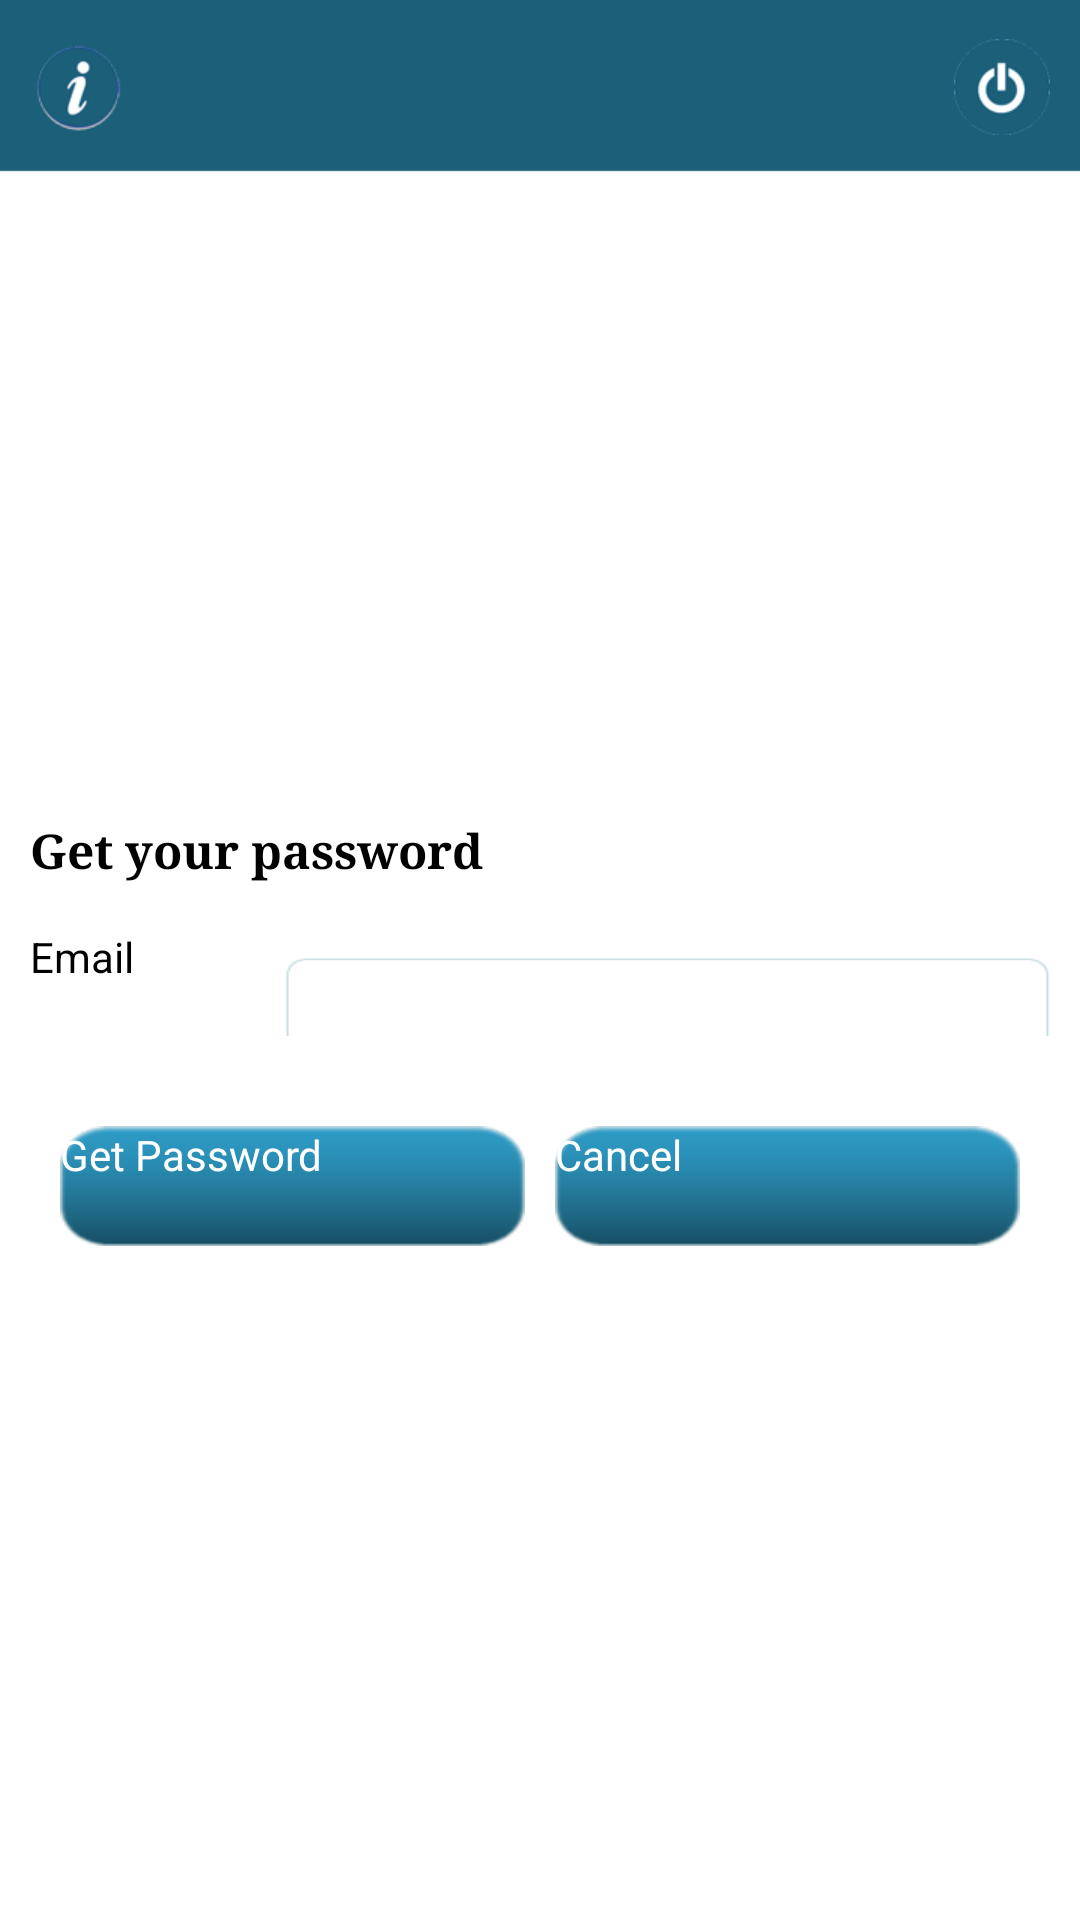

Locate icon controls on the screen. Image size 1080px x 1920px, boxes as [left=x1, top=y1, right=x2, bottom=y2].
about us: [left=37, top=46, right=120, bottom=131]
